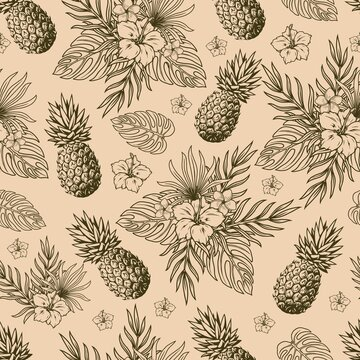Pineapple: (67, 209, 152, 300), (271, 217, 345, 314), (45, 93, 103, 197), (196, 53, 260, 143)
